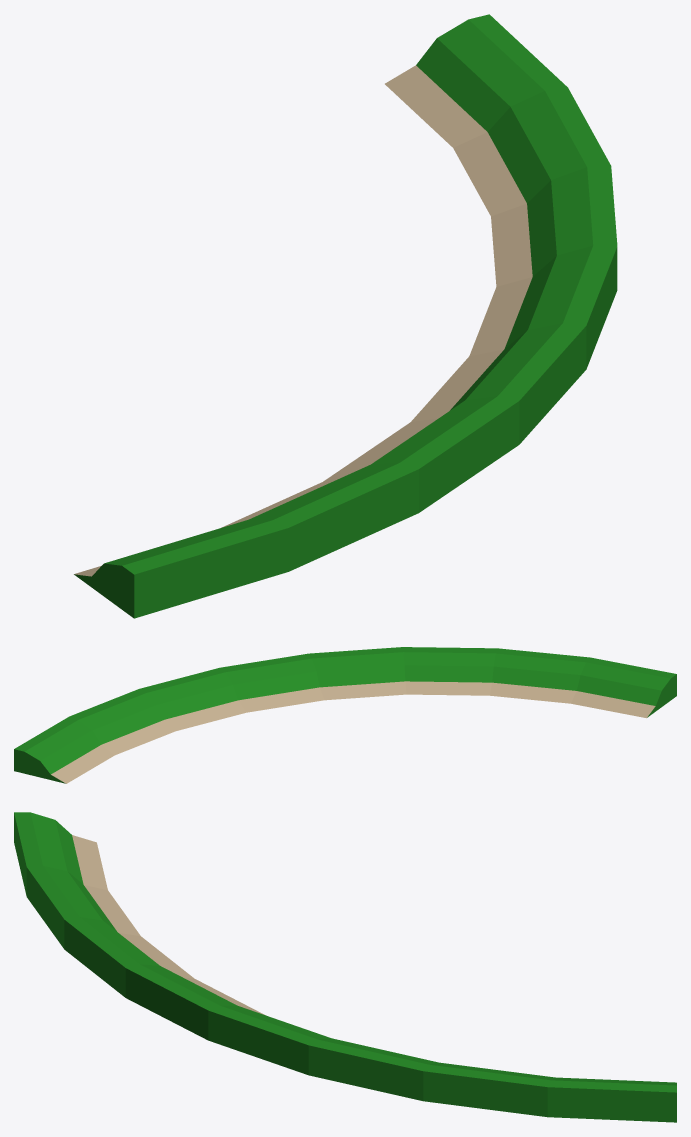
File: path_edge_corner_outer_bb_x2.obj
The picture shows the model from 3 angles, top to bottom: view 1: azimuth 30°, elevation 25°; view 2: azimuth 150°, elevation 25°; view 3: azimuth 270°, elevation 25°; orthographic projection. The views are drawn at different scales.
Parts seen in each view (by area): view 1: 2Outer_Circle.012; view 2: 2Outer_Circle.012; view 3: 2Outer_Circle.012.
Part boxes in pixels (x1,y1,x2,y2): 2Outer_Circle.012: (74, 14, 617, 618); 2Outer_Circle.012: (14, 647, 676, 783); 2Outer_Circle.012: (14, 812, 676, 1122).
Size of the model in its own units: 4 by 0.2 by 4.
